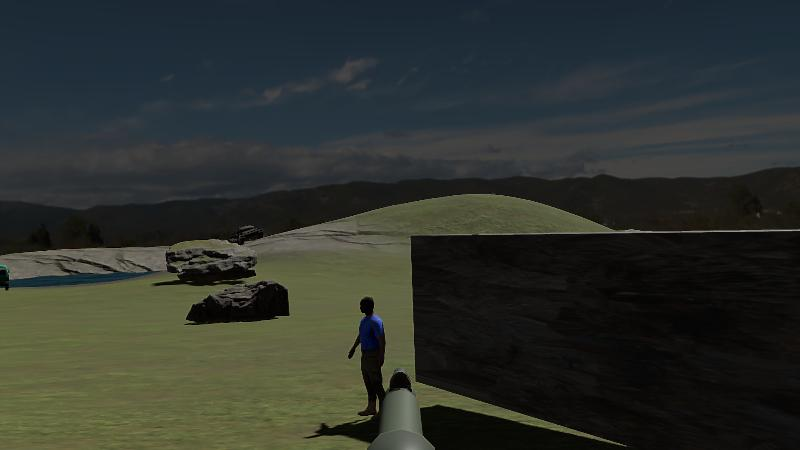Human: (347, 296, 386, 417)
car: (0, 263, 10, 291)
